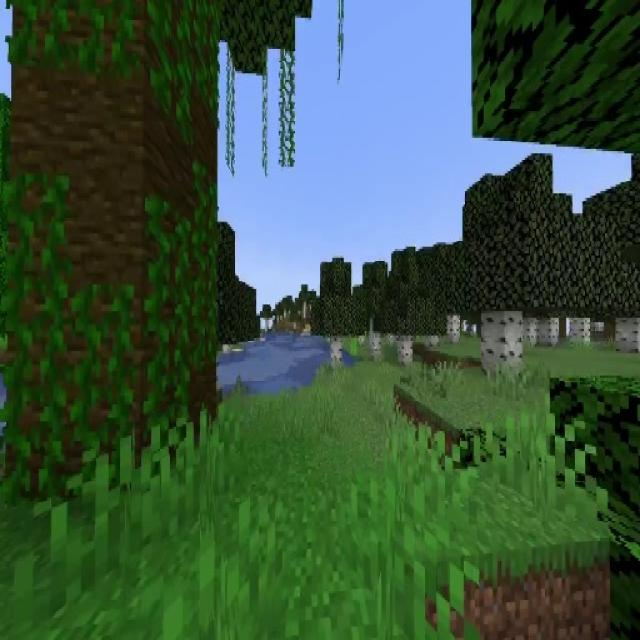birch: (448, 156, 578, 384), (578, 198, 640, 357), (378, 254, 437, 368), (312, 256, 367, 368), (429, 244, 480, 344), (354, 260, 402, 358)
birch_log: (482, 312, 524, 382), (616, 317, 640, 357), (569, 317, 592, 343), (540, 316, 558, 344), (400, 336, 415, 368), (370, 322, 382, 357), (331, 335, 342, 367), (448, 312, 459, 342)
jungle_log: (2, 1, 219, 493)
